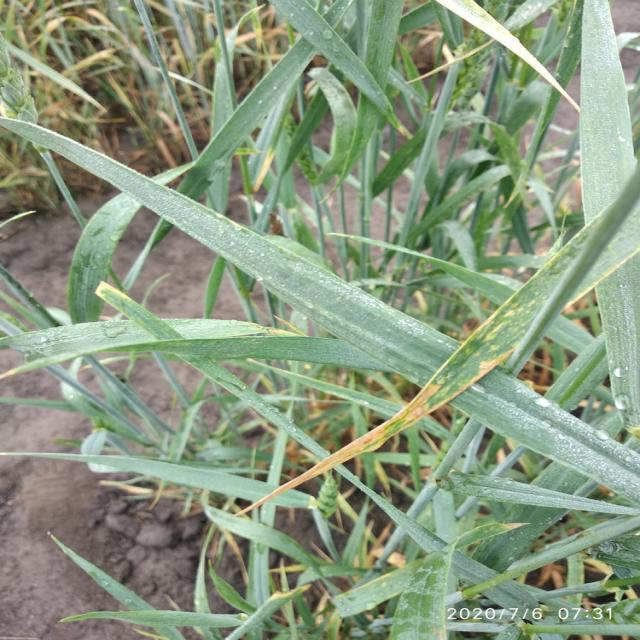wheat-septoria: (265, 242, 585, 503)
